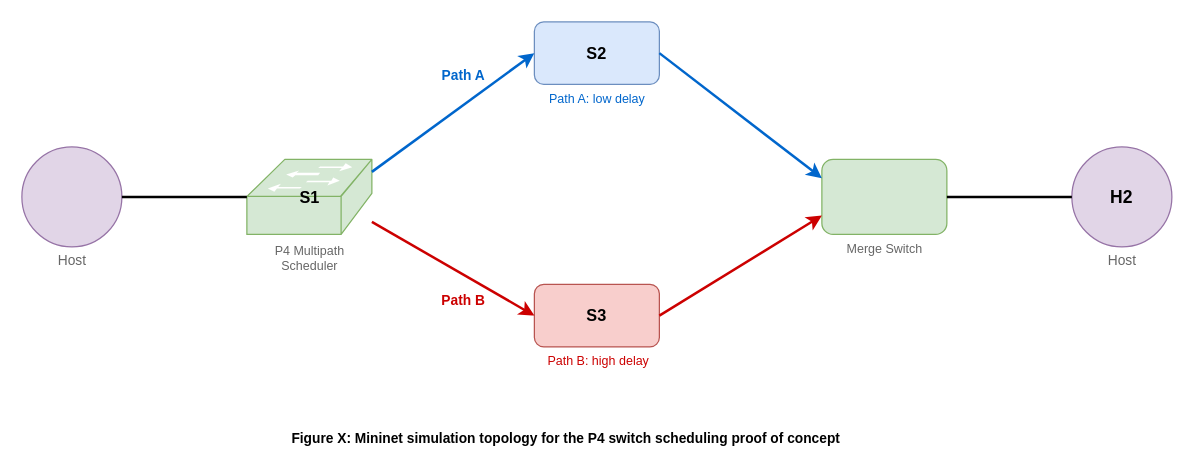
The diagram is 1194 pixels wide and 476 high, and some of its shapes have lost their labels. Here are the shapes that lost their labels. From the top down, the box of each, then its label:
(21, 146, 122, 247): H1
(821, 158, 947, 234): S4
